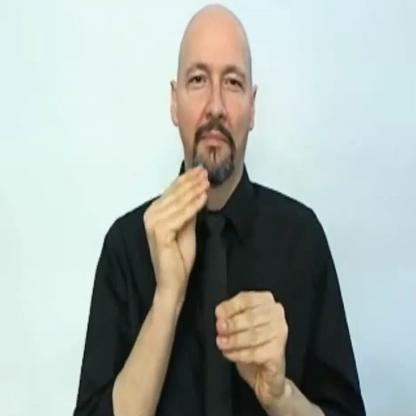Fix: (124, 160, 304, 416)
